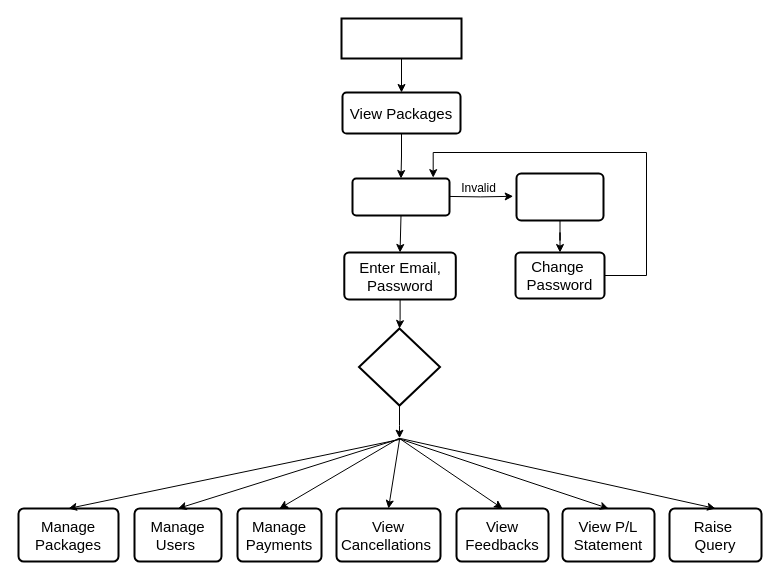
The diagram is 779 pixels wide and 579 high, and some of its shapes have lost their labels. The shapes that lost their labels are listed below. From the top down, each one's centre as x and y in pixels, then its label:
At (x=401, y=38): "Manager".
At (x=400, y=196): "Login".
At (x=559, y=196): "Forgot Password".
At (x=399, y=366): "Valid".
